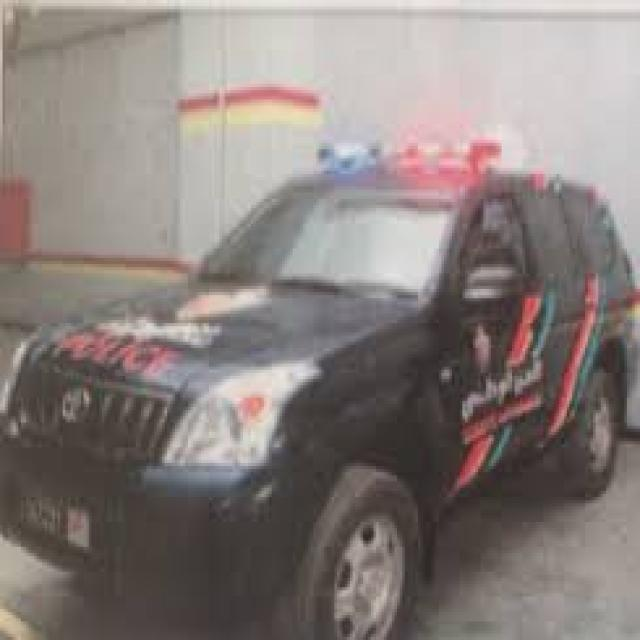Police car: (1, 133, 640, 628)
